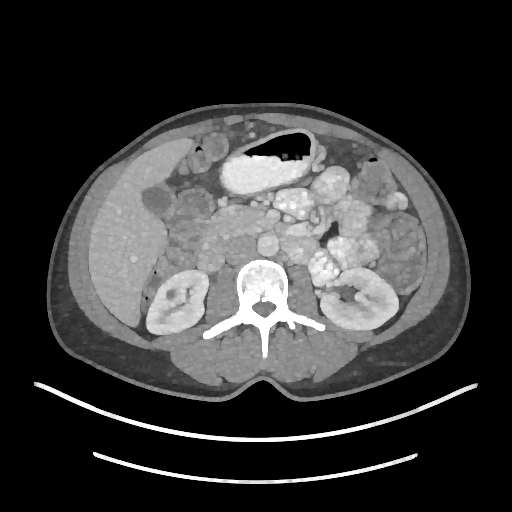Lesion: (163, 287, 180, 308)
